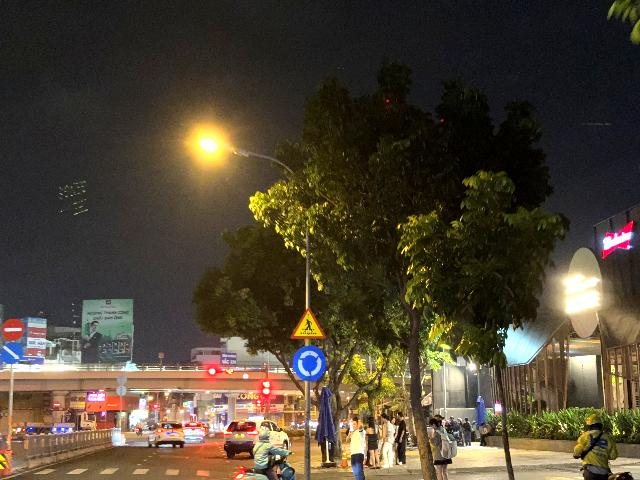cam-di-nguoc-chieu: (2, 318, 25, 342)
duong-nguoi-di-bo-cat-ngang: (290, 305, 326, 338)
huong-phai-di-vong-chuong-ngai-vat: (0, 343, 25, 365)
noi-giao-nhau-chay-theo-vong-xuyen: (293, 345, 325, 382)
